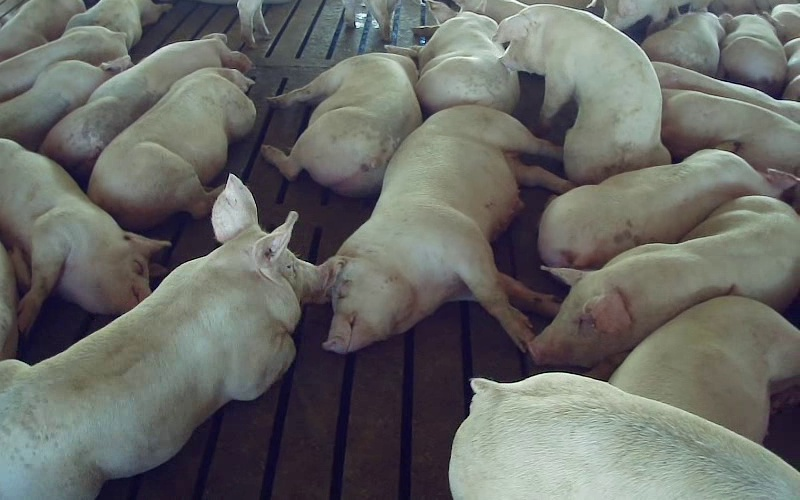pig: (0, 175, 327, 499), (324, 106, 571, 351), (449, 373, 799, 499), (538, 139, 799, 267), (495, 5, 670, 184), (40, 34, 252, 181), (610, 296, 799, 442), (88, 68, 254, 229), (261, 42, 421, 196), (0, 55, 131, 150), (413, 0, 519, 114), (661, 89, 799, 175), (0, 26, 127, 101), (641, 12, 731, 76), (718, 14, 786, 96)
